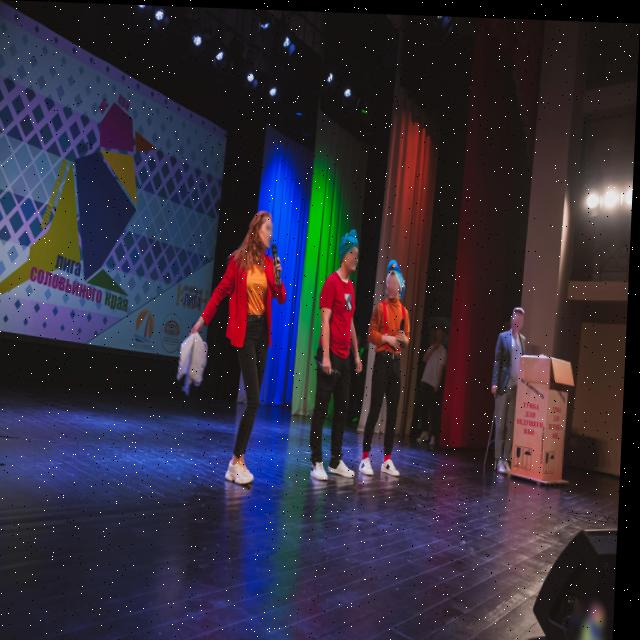Person: (217, 200, 286, 497), (358, 255, 430, 483), (315, 221, 370, 499), (494, 297, 538, 474), (418, 311, 462, 444)
